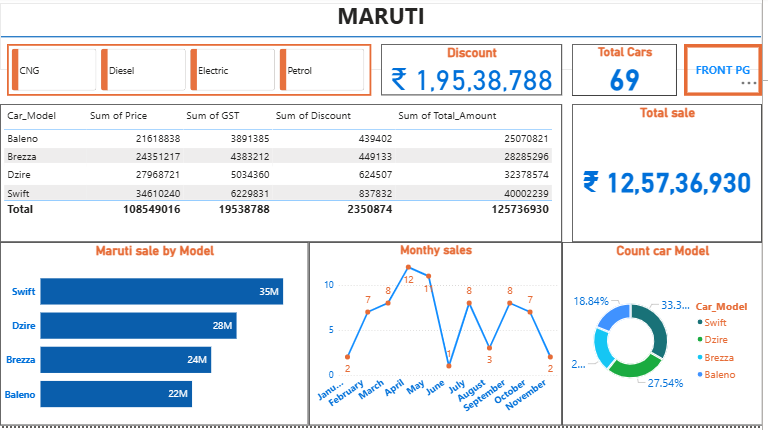

The dashboard page shown, as its layout file describes it:
{"tool":"powerbi","page":{"name":"Maruti","canvas":[1280,720],"ordinal":3},"visuals":[{"type":"textbox","box":[0,0,1280,65],"z":0},{"type":"barChart","title":"Maruti sale by Model","fields":{"Category":["car_sales_2025_india_updated.Car_Model"],"Y":["Sum(car_sales_2025_india_updated.Price)"]},"box":[0,411.7,518.3,308.3],"z":1000},{"type":"donutChart","title":"Count car Model","fields":{"Category":["car_sales_2025_india_updated.Car_Model"],"Y":["CountNonNull(car_sales_2025_india_updated.Price)"]},"box":[943.3,411.7,336.7,308.3],"z":2000},{"type":"lineChart","title":"Monthy sales","fields":{"Category":["car_sales_2025_india_updated.Delivery_Date.Variation.Date Hierarchy.Month"],"Y":["Count(car_sales_2025_india_updated.Price)"]},"box":[518.3,411.7,425,308.3],"z":3000},{"type":"tableEx","fields":{"Values":["car_sales_2025_india_updated.Car_Model","Sum(car_sales_2025_india_updated.Price)","Sum(car_sales_2025_india_updated.GST)","Sum(car_sales_2025_india_updated.Discount)","Sum(car_sales_2025_india_updated.Total_Amount)"]},"box":[0,179.7,944,231.8],"z":4000},{"type":"shape","box":[0,10,1280,113.3],"z":5000},{"type":"card","title":"Total Cars","fields":{"Values":["CountNonNull(car_sales_2025_india_updated.Car_Model)"]},"box":[960.8,79,176.4,87.3],"z":6000},{"type":"card","title":"Discount","fields":{"Values":["Sum(car_sales_2025_india_updated.GST)"]},"box":[640,79,304,85.7],"z":7000},{"type":"card","title":"Total sale","fields":{"Values":["Sum(car_sales_2025_india_updated.Total_Amount)"]},"box":[960.8,179.7,319.2,231.8],"z":9000},{"type":"advancedSlicerVisual","fields":{"Values":["car_sales_2025_india_updated.Fuel_Type"]},"box":[11.7,78.3,611.7,86.7],"z":10000},{"type":"actionButton","box":[1149,79,131,87.3],"z":10001}]}

Visuals, with their boxes in screenshot pixels (x1, y1, x2, y2), scaled from the page's 1280x720 canvas onto the 768x430 screenshot:
textbox: locate(0, 0, 767, 39)
"Maruti sale by Model" barChart: locate(0, 246, 311, 429)
"Count car Model" donutChart: locate(566, 246, 767, 429)
"Monthy sales" lineChart: locate(311, 246, 566, 429)
tableEx - car_sales_2025_india_updated.Car_Model x Sum(car_sales_2025_india_updated.Price): locate(0, 107, 566, 246)
shape: locate(0, 6, 767, 74)
"Total Cars" card: locate(576, 47, 682, 99)
"Discount" card: locate(384, 47, 566, 98)
"Total sale" card: locate(576, 107, 767, 246)
advancedSlicerVisual - car_sales_2025_india_updated.Fuel_Type: locate(7, 47, 374, 99)
actionButton: locate(689, 47, 767, 99)
